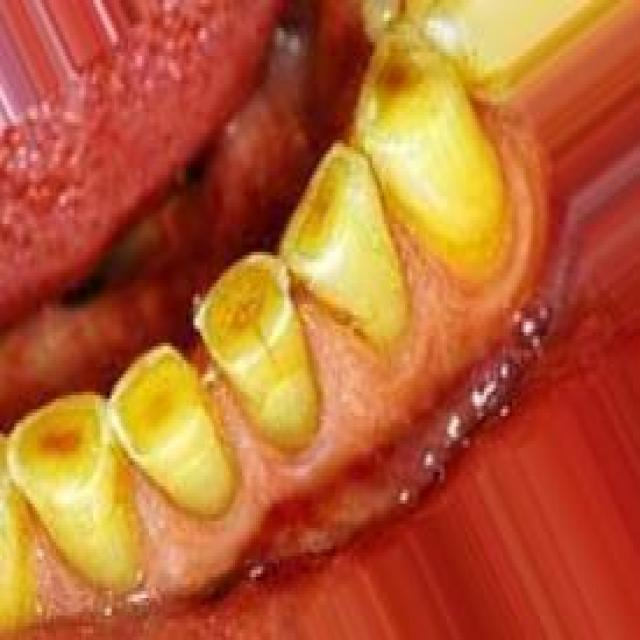caries: (358, 19, 448, 142), (199, 259, 287, 370), (16, 388, 102, 498), (286, 152, 353, 279), (114, 352, 192, 452)
